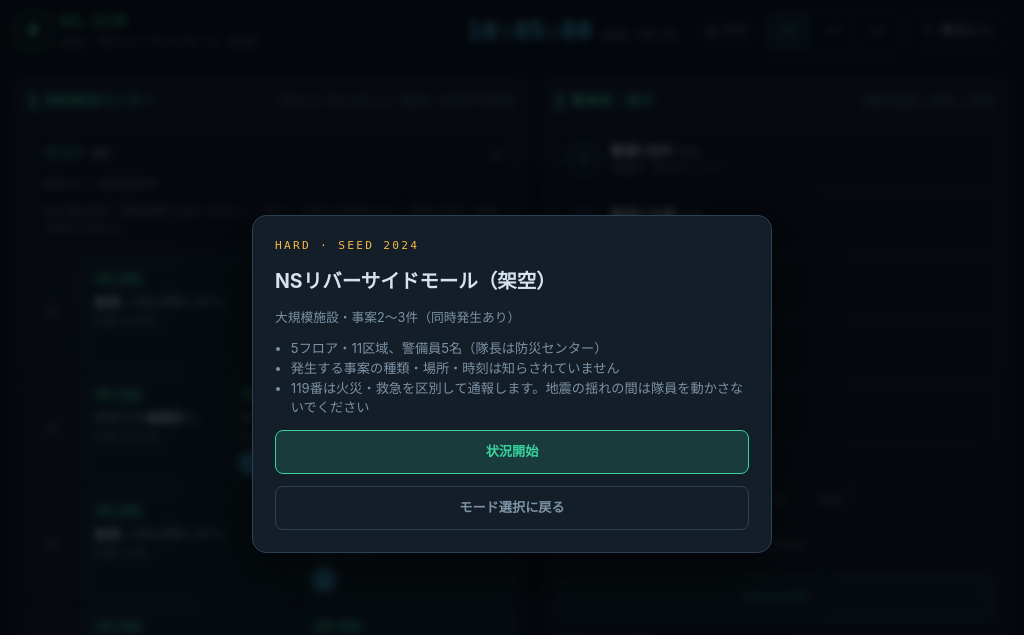
Test: v0.4 タスクボード・簡易通知 › 手動完了は表示の整理のみで、事案は進行中のまま（戻すこともできる）
The image size is (1024, 635).
Click the button "状況開始" at [512, 452], box [275,430,749,474]
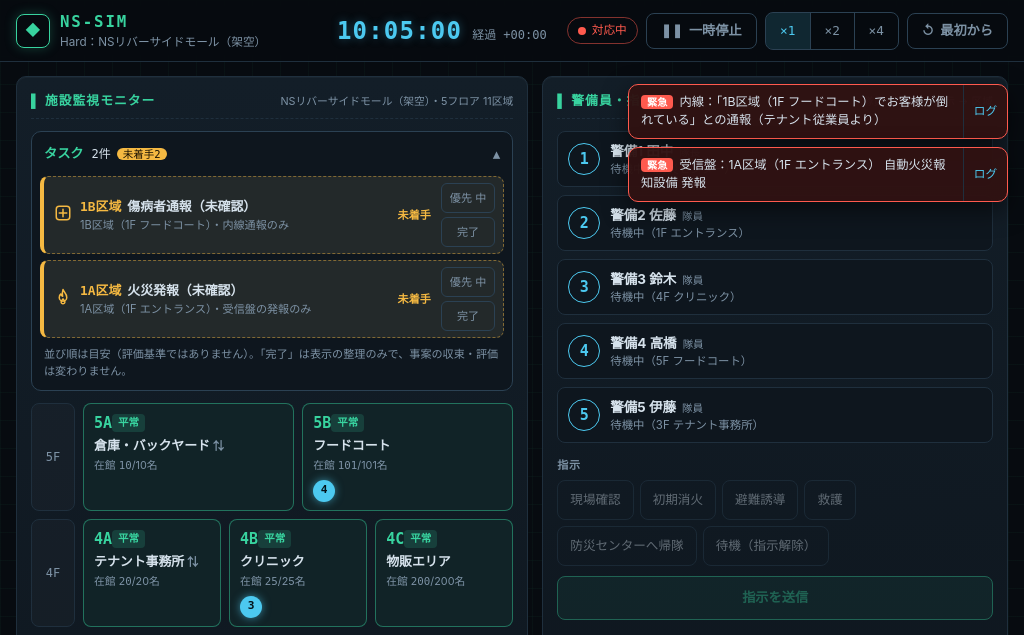
Click the button "❚❚ 一時停止" at [701, 31], box [646,13,757,49]
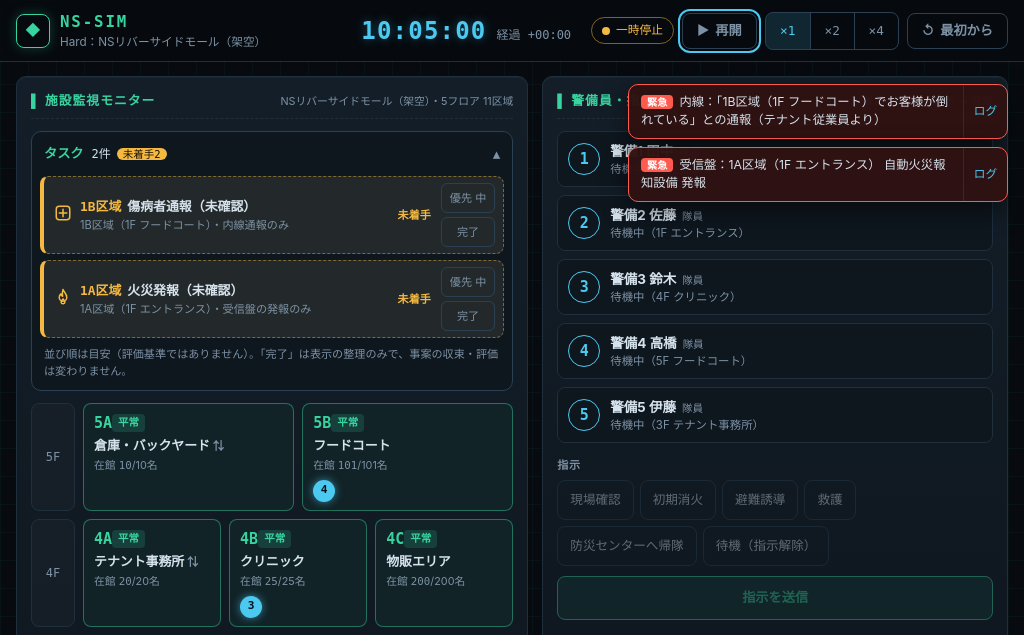
Click the 1st button "完了" at [468, 232], box [441,217,495,247]
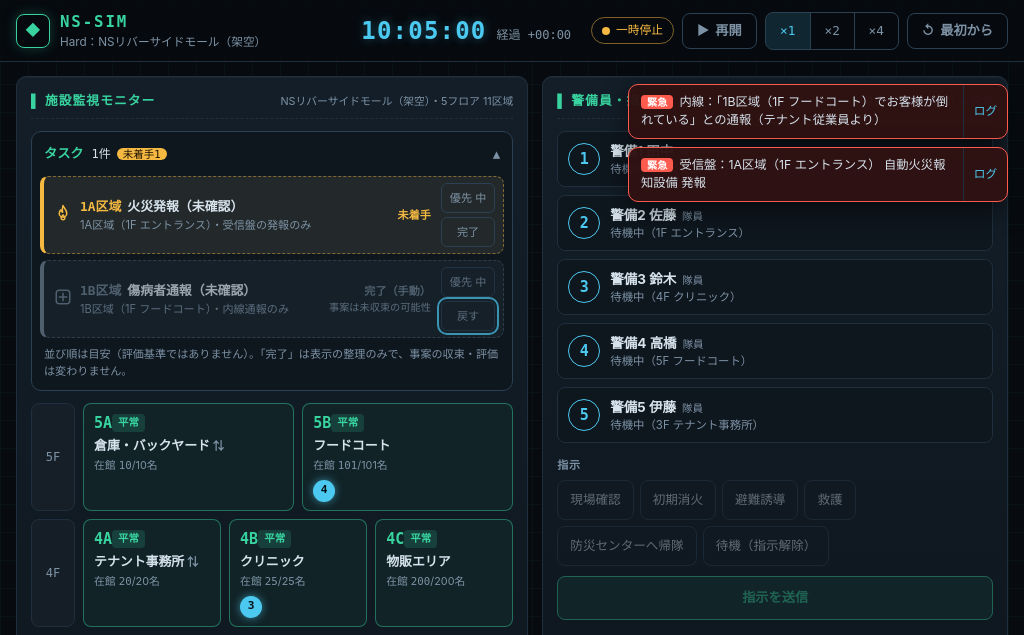
Result: the list item with aria-label "傷病者" shows "完了（手動）" at [44,261,441,337]
Result: the list item with aria-label "傷病者" shows "事案は未収束の可能性" at [44,261,441,337]
Click the button "戻す" at [468, 316], box [441,301,495,331]
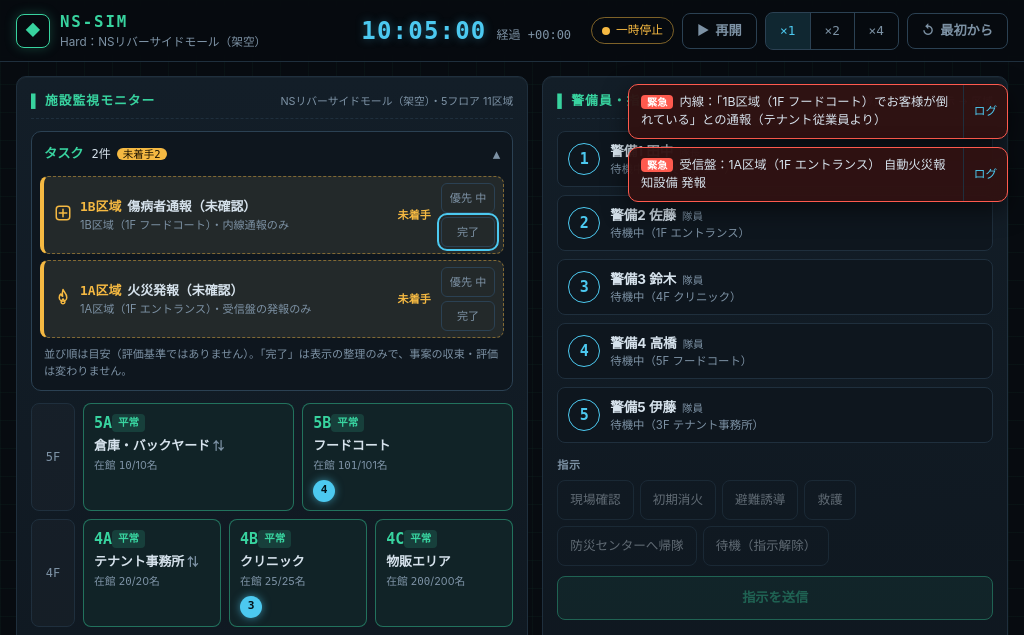
Result: the list item with aria-label "傷病者" shows "未着手" at [44,177,441,253]
